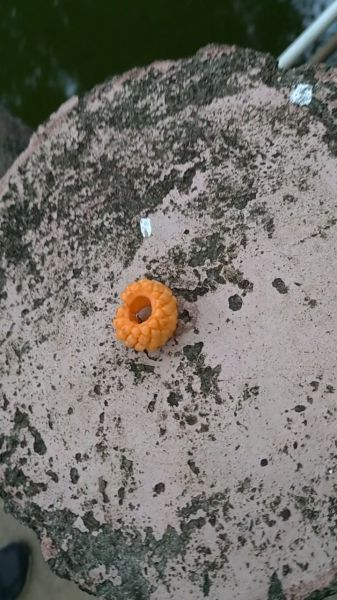eggs: (109, 276, 181, 349)
